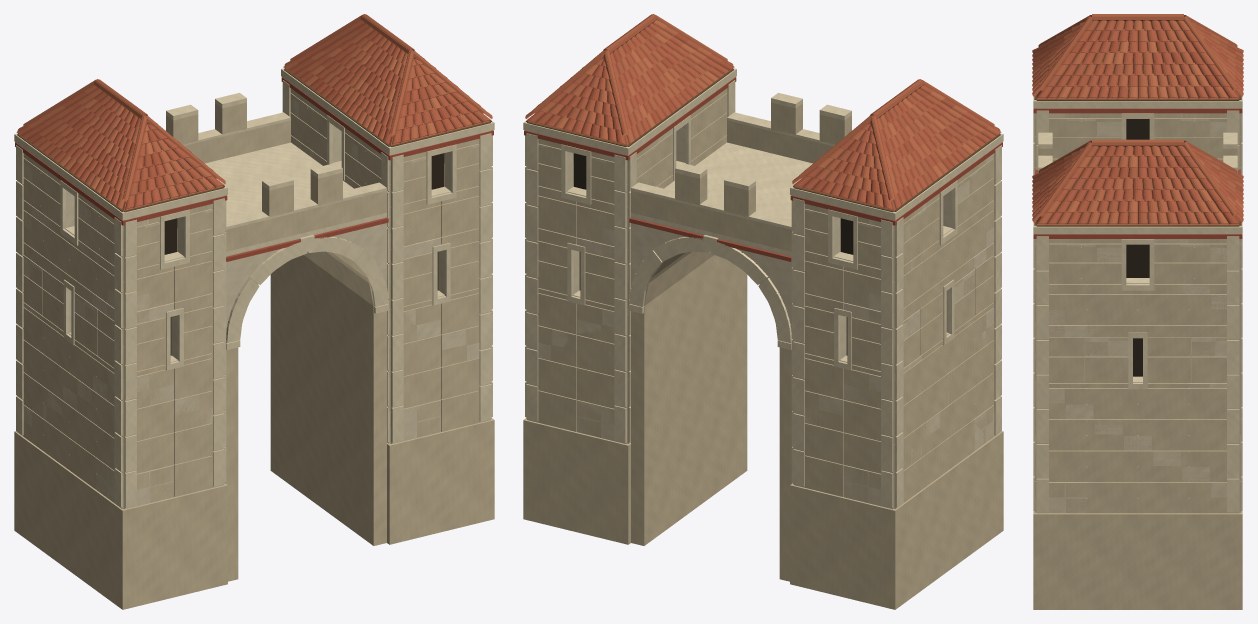
Rendered from verona_gate.glb.
3 views of the same model, side by side, from view 1: azimuth 30°, elevation 25°; view 2: azimuth 150°, elevation 25°; view 3: azimuth 270°, elevation 25° (orthographic). The views are drawn at different scales.
Visible parts, largest first — view 1: Travertine.001, Travertine.002, Limestone_trim.001, Limestone_trim.002, Tile_0.001, Limewash.001, Tile_1.001, Limewash.002, Tile_5.001, Tile_2.001, Pompeian_red.001, Tile_4.001 (+6 smaller); view 2: Travertine.002, Travertine.001, Limestone_trim.001, Limestone_trim.002, Tile_0.001, Limewash.001, Tile_1.001, Limewash.002, Tile_5.001, Pompeian_red.002, Tile_4.001, Tile_2.001 (+7 smaller); view 3: Travertine.001, Travertine.002, Tile_0.001, Limestone_trim.002, Limestone_trim.001, Tile_1.001, Limewash.001, Tile_5.001, Tile_2.001, Limewash.002, Tile_4.001, Tile_3.001 (+5 smaller).
Part boxes in pixels (<box>): Travertine.001: <box>14,93,493,608</box>; Travertine.002: <box>14,88,494,609</box>; Limestone_trim.001: <box>14,71,494,506</box>; Limestone_trim.002: <box>14,68,494,507</box>; Tile_0.001: <box>16,20,481,209</box>; Limewash.001: <box>19,98,490,508</box>; Tile_1.001: <box>23,14,492,209</box>; Limewash.002: <box>23,105,450,509</box>; Tile_5.001: <box>28,46,480,198</box>; Tile_2.001: <box>48,29,490,210</box>; Pompeian_red.001: <box>15,77,492,261</box>; Tile_4.001: <box>27,23,451,193</box>; Travertine.002: <box>523,88,1003,609</box>; Travertine.001: <box>524,93,1003,608</box>; Limestone_trim.001: <box>523,70,1003,506</box>; Limestone_trim.002: <box>523,68,1003,507</box>; Tile_0.001: <box>527,23,1000,209</box>; Limewash.001: <box>527,100,994,508</box>; Tile_1.001: <box>532,14,1001,207</box>; Limewash.002: <box>526,124,1000,509</box>; Tile_5.001: <box>538,29,984,195</box>; Pompeian_red.002: <box>524,77,1002,261</box>; Tile_4.001: <box>525,29,956,204</box>; Tile_2.001: <box>528,35,969,210</box>; Travertine.001: <box>1034,108,1241,608</box>; Travertine.002: <box>1033,108,1242,609</box>; Tile_0.001: <box>1032,20,1243,223</box>; Limestone_trim.002: <box>1033,97,1242,512</box>; Limestone_trim.001: <box>1033,102,1242,511</box>; Tile_1.001: <box>1036,14,1243,224</box>; Limewash.001: <box>1035,108,1240,512</box>; Tile_5.001: <box>1032,20,1243,224</box>; Tile_2.001: <box>1032,20,1243,224</box>; Limewash.002: <box>1036,108,1239,513</box>; Tile_4.001: <box>1032,27,1243,224</box>; Tile_3.001: <box>1032,31,1243,223</box>.
Size of the model in its own units: 9.95 by 11.72 by 5.05.
Materials: 12 (6 with a texture image).
